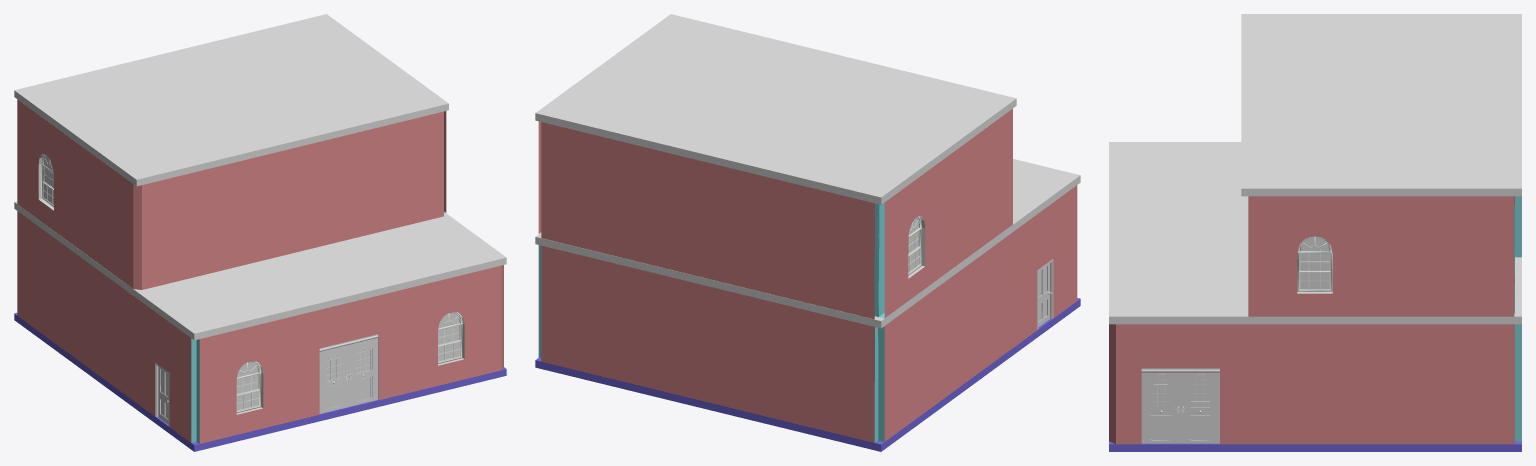
Rendered from mdl_Eingangshalle.fbx.
The picture shows the model from 3 angles, left to right: view 1: azimuth 30°, elevation 25°; view 2: azimuth 150°, elevation 25°; view 3: azimuth 270°, elevation 25°; orthographic projection. The views are drawn at different scales.
Visible parts, largest first — view 1: Plane, Door_03.001, Door_02.001, Door_01.001; view 2: Plane, Door_01.001; view 3: Plane, Door_02.002, Door_03.002, Window_Frame_07.006, Window_07_down.006, Window_07_up.006.
Boxes of the visible parts, x1,y1,x2,y2 form: Plane: [14, 14, 506, 451]; Door_03.001: [348, 334, 378, 406]; Door_02.001: [319, 341, 348, 413]; Door_01.001: [158, 367, 168, 424]; Plane: [535, 14, 1080, 451]; Door_01.001: [1038, 263, 1051, 327]; Plane: [1109, 14, 1521, 451]; Door_02.002: [1141, 368, 1180, 443]; Door_03.002: [1180, 368, 1219, 443]; Window_Frame_07.006: [1297, 236, 1332, 291]; Window_07_down.006: [1299, 271, 1330, 289]; Window_07_up.006: [1299, 253, 1330, 270].
Size of the model in its own units: 936 by 657 by 933.
